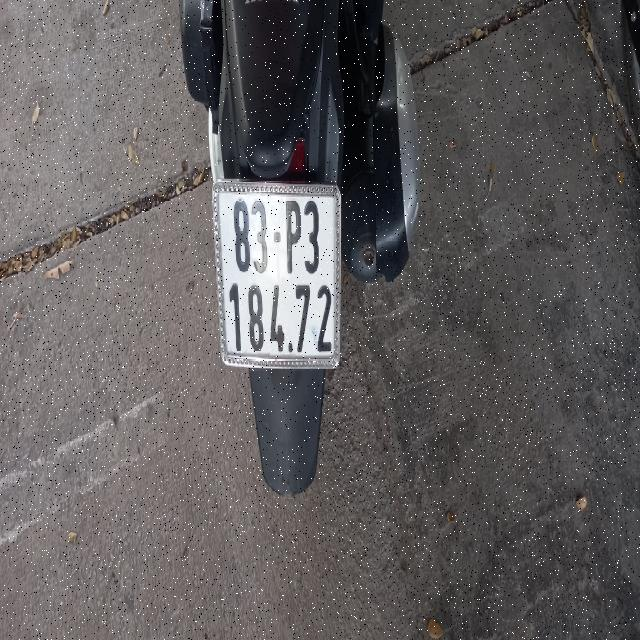1: (227, 280, 242, 350)
2: (317, 283, 332, 353)
3: (252, 201, 268, 273), (304, 202, 320, 274)
4: (270, 285, 285, 354)
7: (296, 285, 310, 357)
8: (234, 200, 251, 274), (247, 283, 264, 353)
P: (285, 199, 301, 275)
